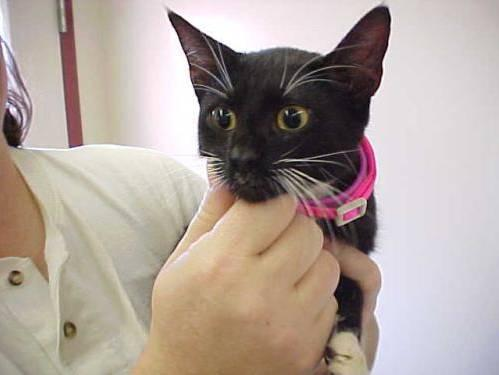cat: (169, 6, 389, 253)
